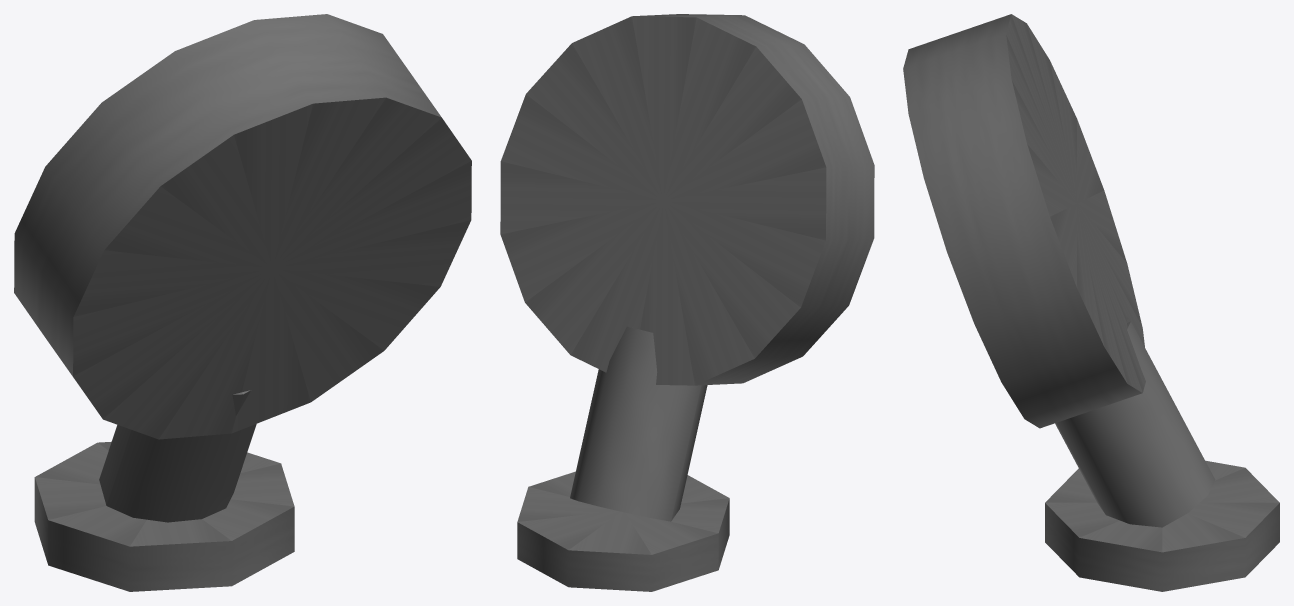
File: mastarmcurve_5x1_c0_thin_down.obj
3 renders of one model, left to right at view 1: azimuth 30°, elevation 25°; view 2: azimuth 150°, elevation 25°; view 3: azimuth 270°, elevation 25°, orthographic. The views are drawn at different scales.
Visible parts, largest first — view 1: mastarm_5x1_c0_thin_down; view 2: mastarm_5x1_c0_thin_down; view 3: mastarm_5x1_c0_thin_down.
Boxes of the visible parts, <box> form: mastarm_5x1_c0_thin_down: <box>14,14,471,591</box>; mastarm_5x1_c0_thin_down: <box>500,14,874,591</box>; mastarm_5x1_c0_thin_down: <box>903,14,1279,591</box>.
Bounding box in the file's own units: 0.6835 × 0.9562 × 0.6416.
